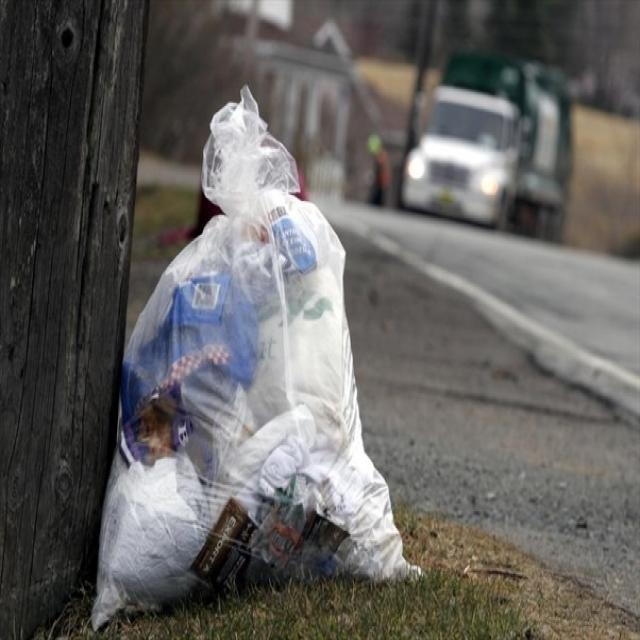garbage: (90, 81, 422, 636)
